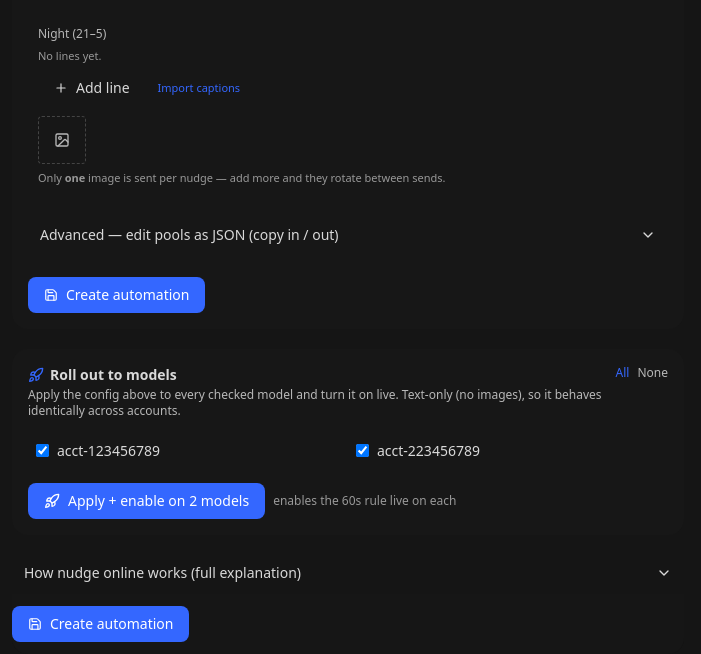
Test: NudgeOnlineTab over its own save › A's save in flight is not B's: B's Save is live, not 'Saving…'
The width and height of the screenshot is (701, 654).
(page scrolled)
Click the 1st button "Create automation" at (117, 295), box [28,277,206,313]
(page scrolled)
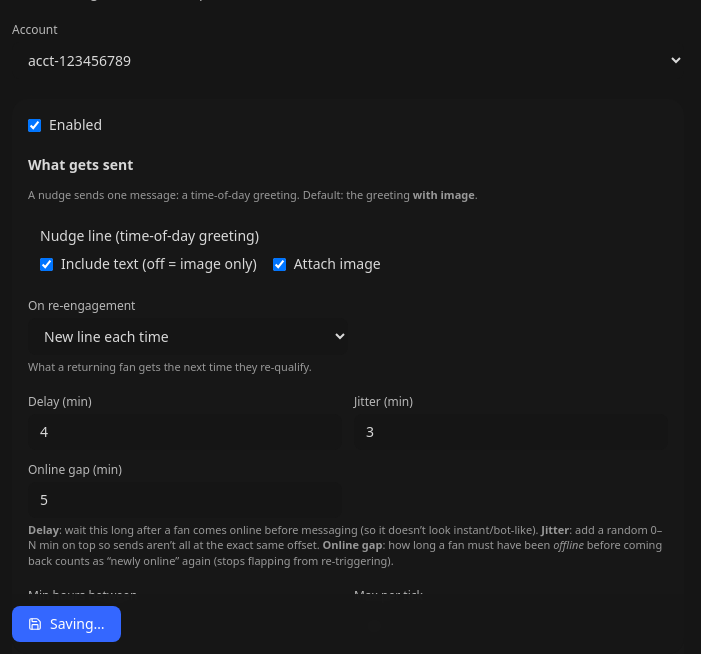
Select "acct-223456789" in the dropdown labelled "Account" at (348, 60), box [12,42,684,79]
(page scrolled)
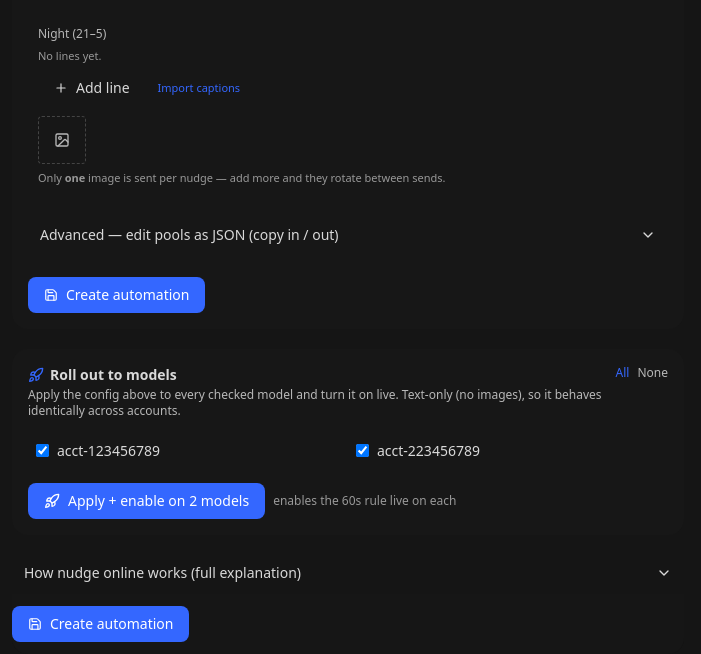
Result: the 1st button "Create automation" is enabled at [28,277,206,313]
